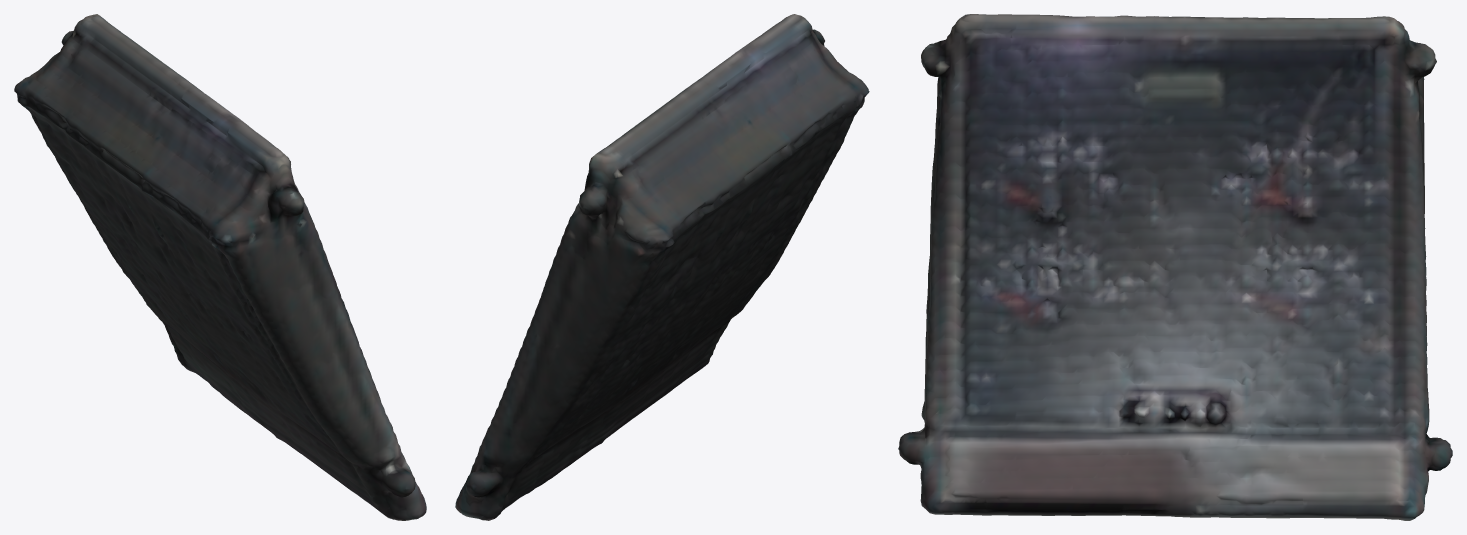
File: dashboard.glb
3 views of the same model, side by side, from view 1: azimuth 30°, elevation 25°; view 2: azimuth 150°, elevation 25°; view 3: azimuth 270°, elevation 25° (orthographic). The views are drawn at different scales.
Parts seen in each view (by area): view 1: geometry_0; view 2: geometry_0; view 3: geometry_0.
Boxes of the visible parts, bbox=[...] form: geometry_0: bbox=[14, 14, 426, 520]; geometry_0: bbox=[455, 14, 869, 520]; geometry_0: bbox=[898, 14, 1452, 520].
Size of the model in its own units: 0.481 by 0.854 by 0.9894.
